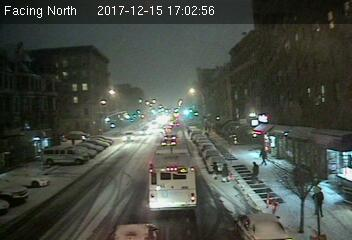bus: (147, 145, 199, 211)
car: (235, 212, 288, 240), (205, 158, 228, 173), (159, 139, 177, 147)
pedestrian: (311, 185, 327, 217), (251, 160, 260, 188), (212, 161, 221, 180), (223, 163, 231, 182)
